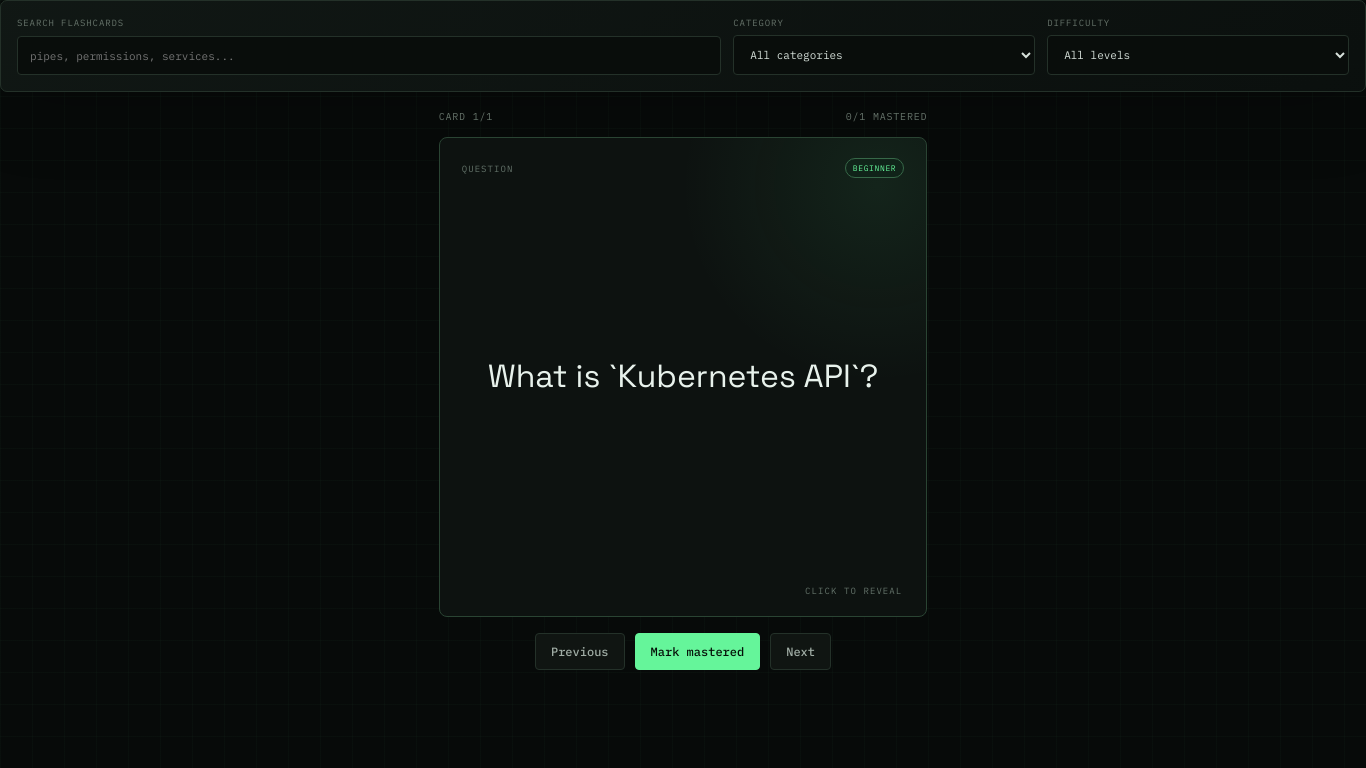
Test case: Kubernetes flashcards › reveals structured Kubernetes learning details
Click the button with aria-label "Flip Kubernetes flashcard" at (683, 377), box [439,137,927,617]
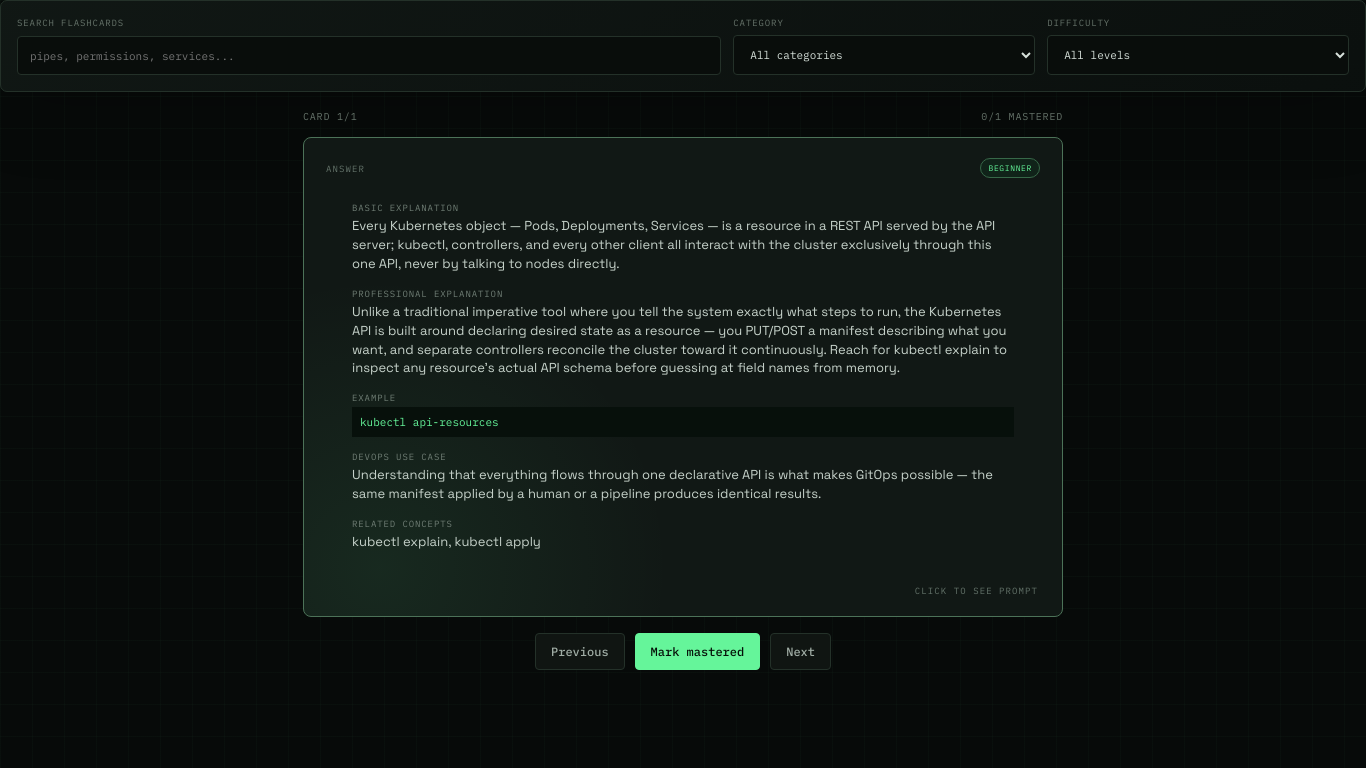
Check: the text "Basic explanation" is shown, box [352,202,459,213]
Check: the text "Professional explanation" is shown, box [352,288,503,299]
Check: the text "Example" is shown, box [352,392,396,403]
